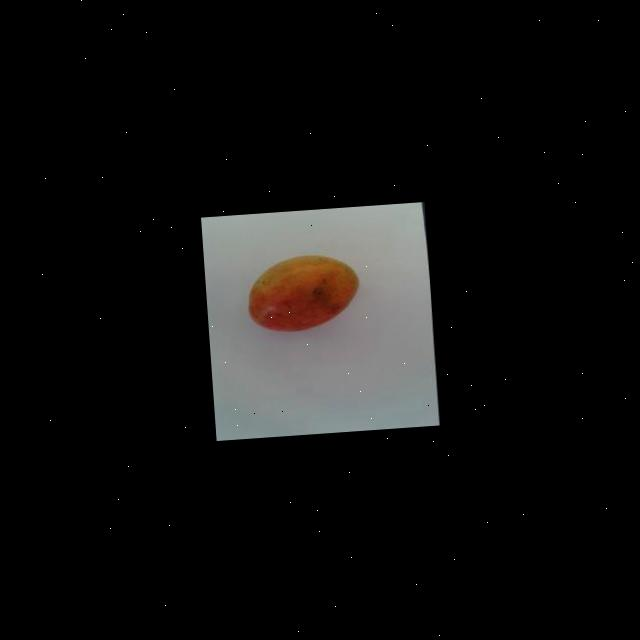Mango: (245, 251, 364, 334)
